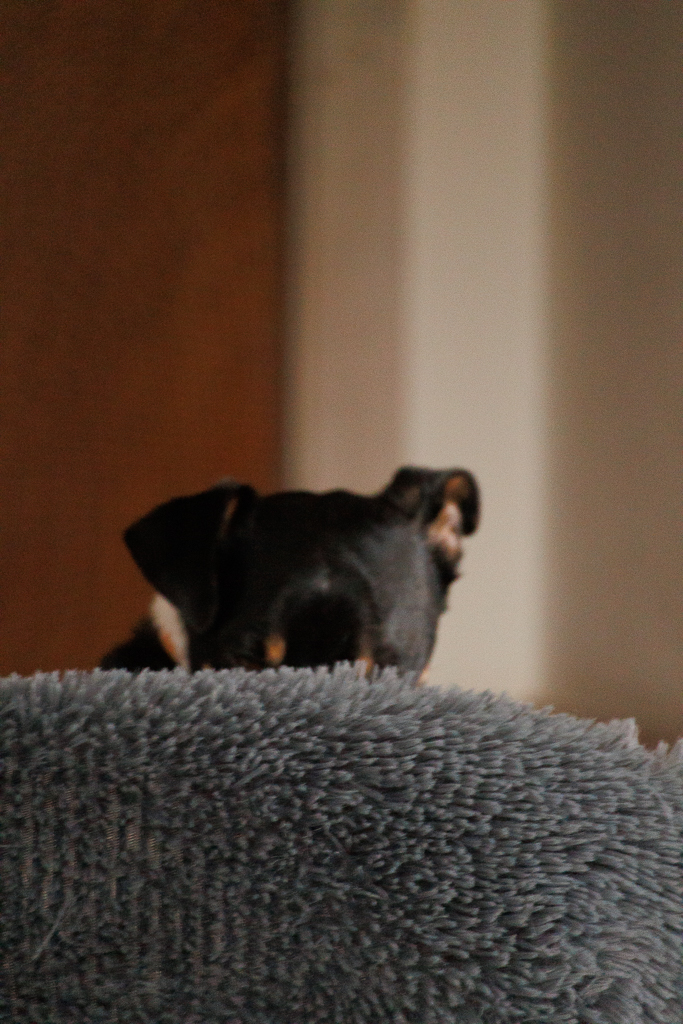Dog: (82, 450, 505, 727)
